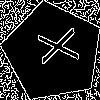X: (28, 27, 80, 68)
